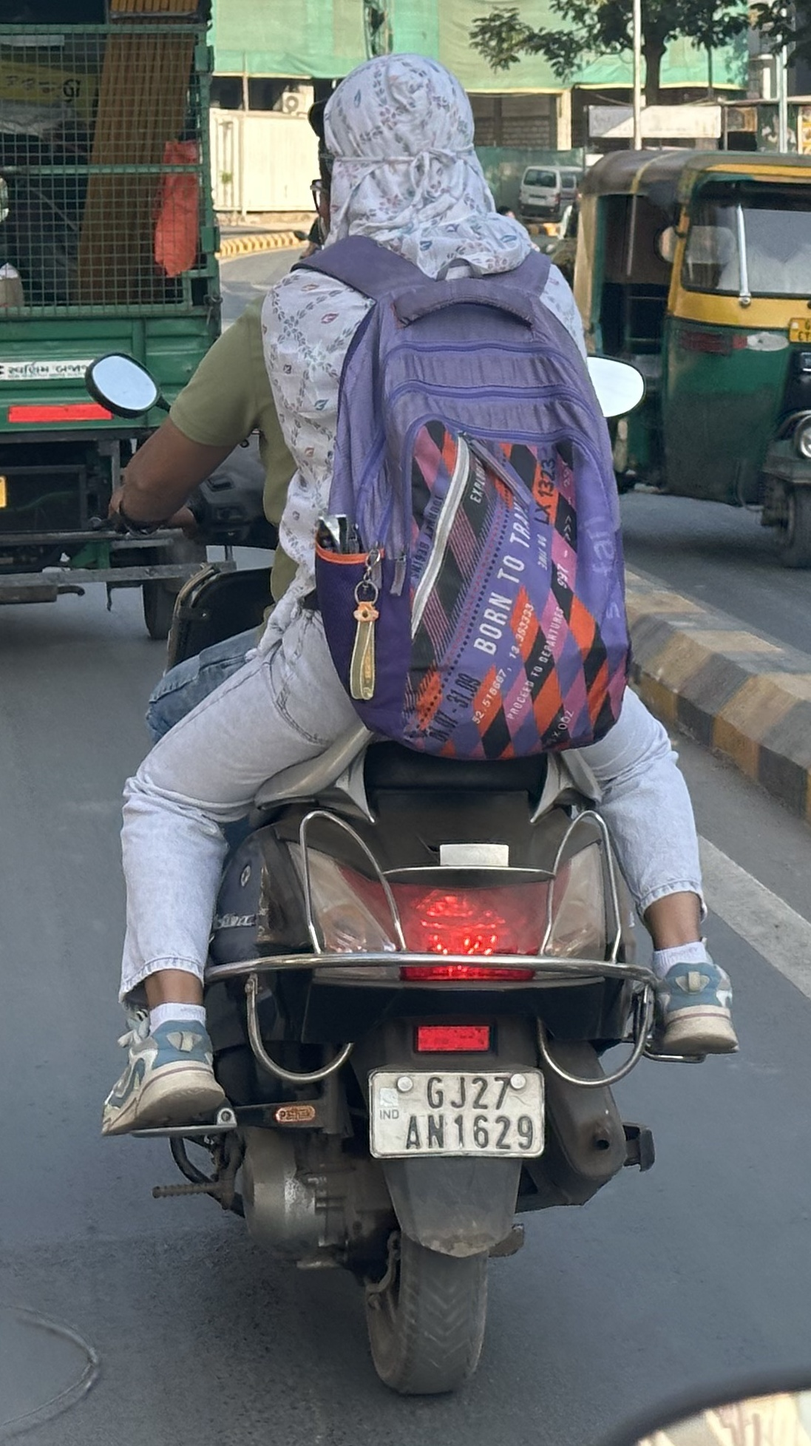BikeWithRider: (70, 37, 755, 1412)
NoHelmet: (294, 41, 505, 257)
